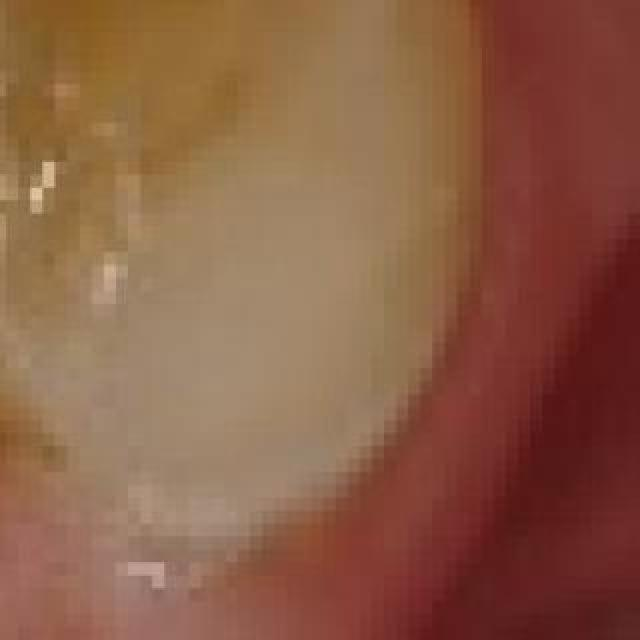calculus: (0, 276, 506, 610)
